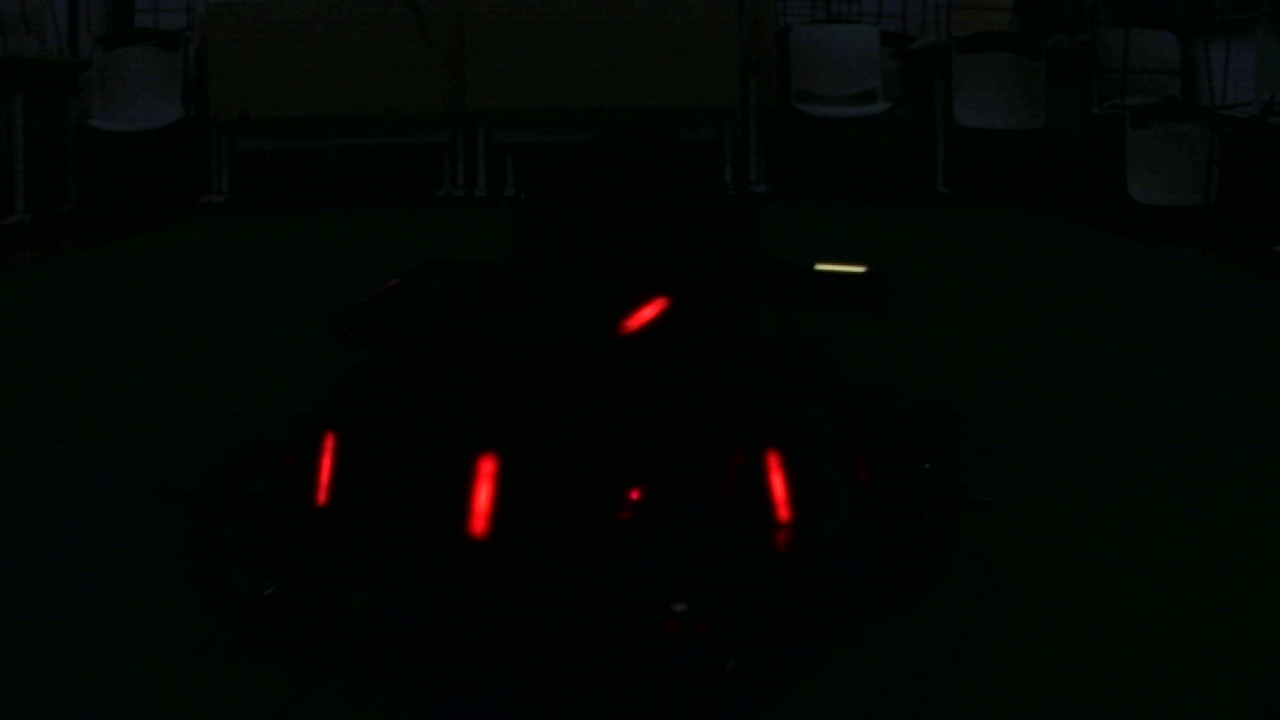lamp: (761, 441, 794, 531), (467, 447, 495, 540), (310, 425, 338, 504)
notpair1: (468, 445, 794, 542)
pair1: (312, 432, 495, 538)
